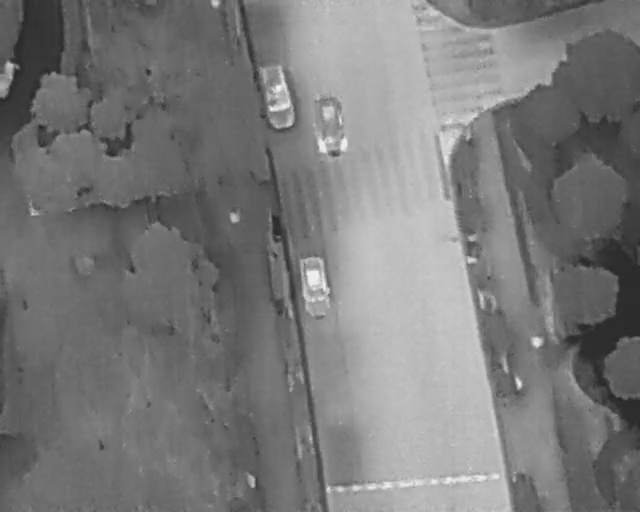Car: (251, 55, 299, 132), (311, 91, 350, 159), (296, 253, 333, 322)
